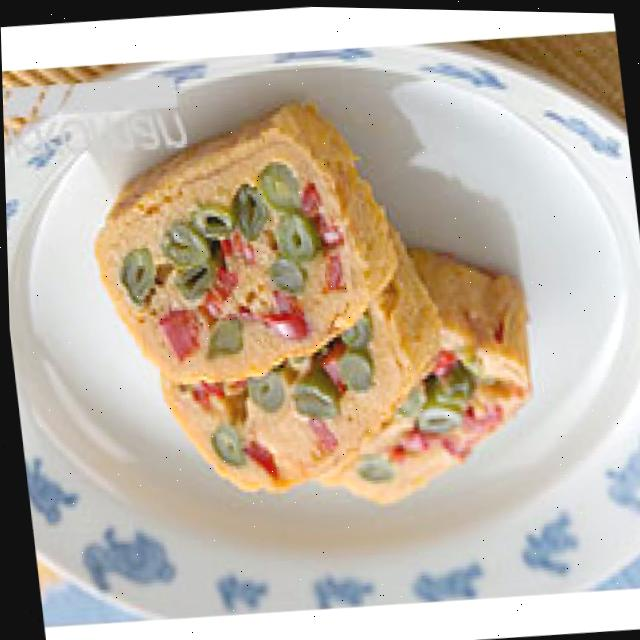鸡蛋料理: (74, 95, 556, 544)
